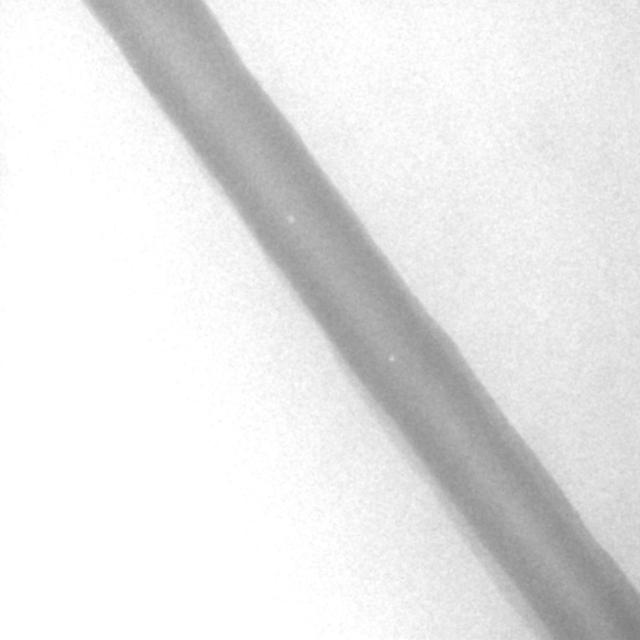air-hole: (285, 210, 297, 227), (389, 352, 399, 364)
